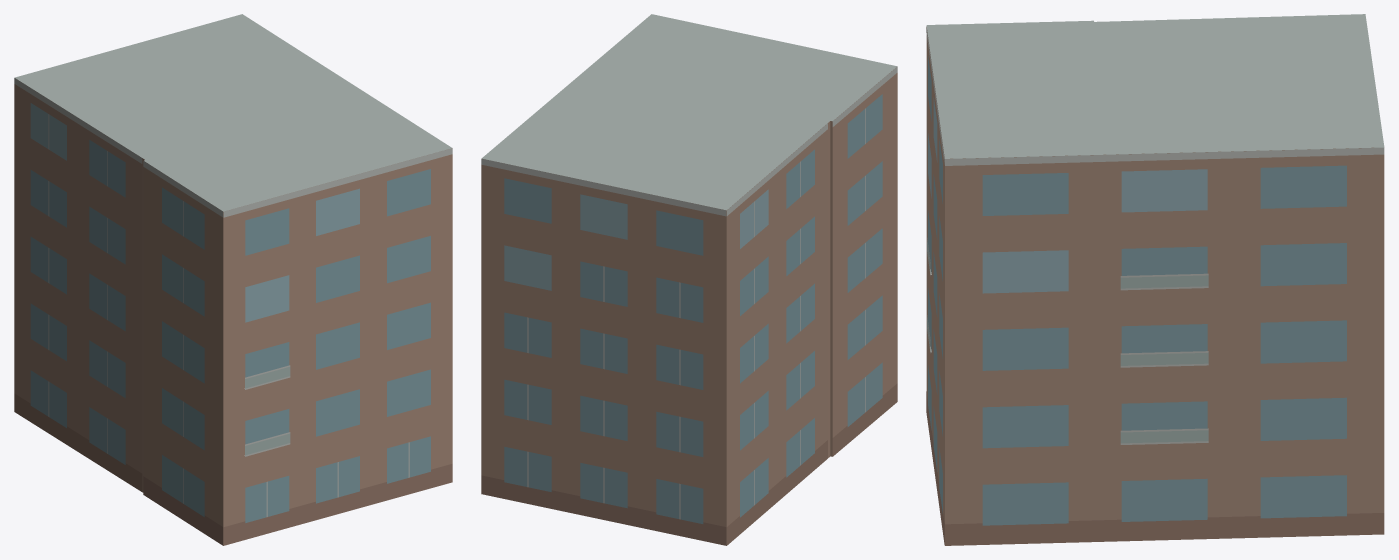
Rendered from survey-upis-32846956.glb.
3 renders of one model, left to right at view 1: azimuth 30°, elevation 25°; view 2: azimuth 150°, elevation 25°; view 3: azimuth 270°, elevation 25°, orthographic. The views are drawn at different scales.
Visible parts, largest first — view 1: survey-upis-32846956.tmp; view 2: survey-upis-32846956.tmp; view 3: survey-upis-32846956.tmp.
Part boxes in pixels (bbox=[...]): survey-upis-32846956.tmp: bbox=[14, 14, 452, 545]; survey-upis-32846956.tmp: bbox=[481, 14, 897, 545]; survey-upis-32846956.tmp: bbox=[926, 14, 1384, 545].
Bounding box in the file's own units: 10.69 × 13.3 × 14.28.
